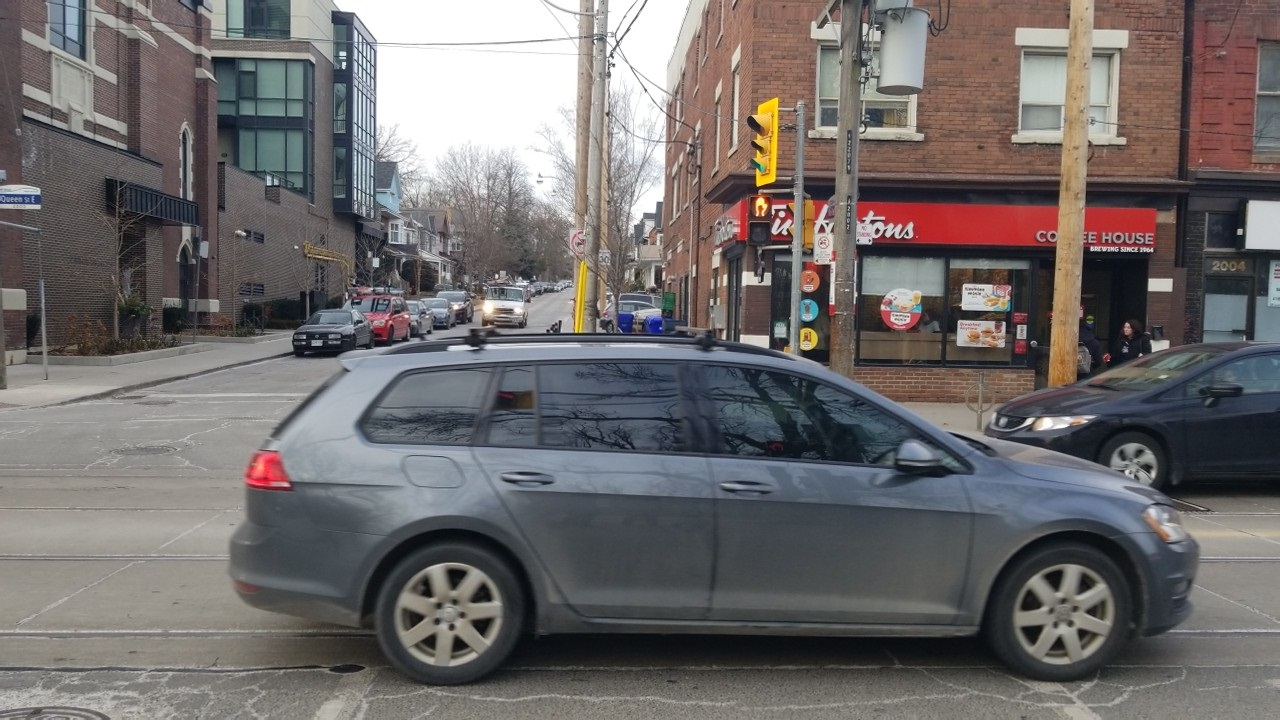light: (746, 193, 774, 247)
